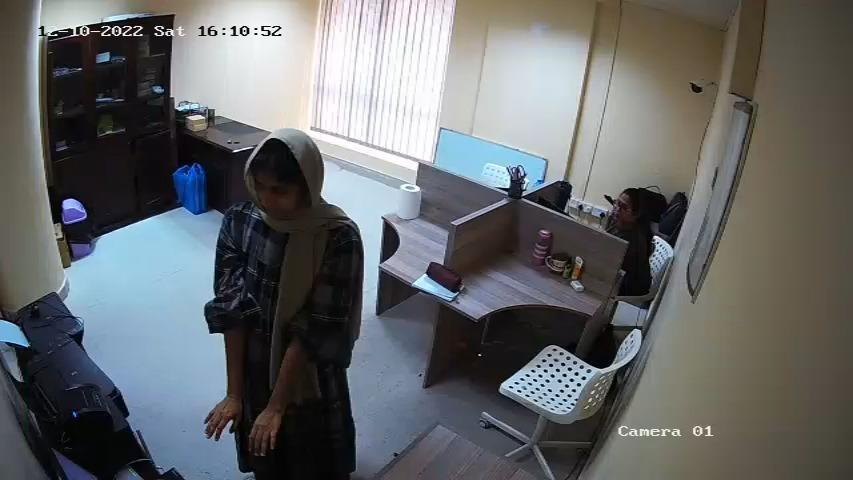no_apron: (202, 393, 244, 450), (248, 407, 281, 461)
no_gloves: (230, 125, 330, 196), (619, 180, 661, 220)
no_hairnet: (237, 178, 304, 232), (608, 194, 640, 235)
